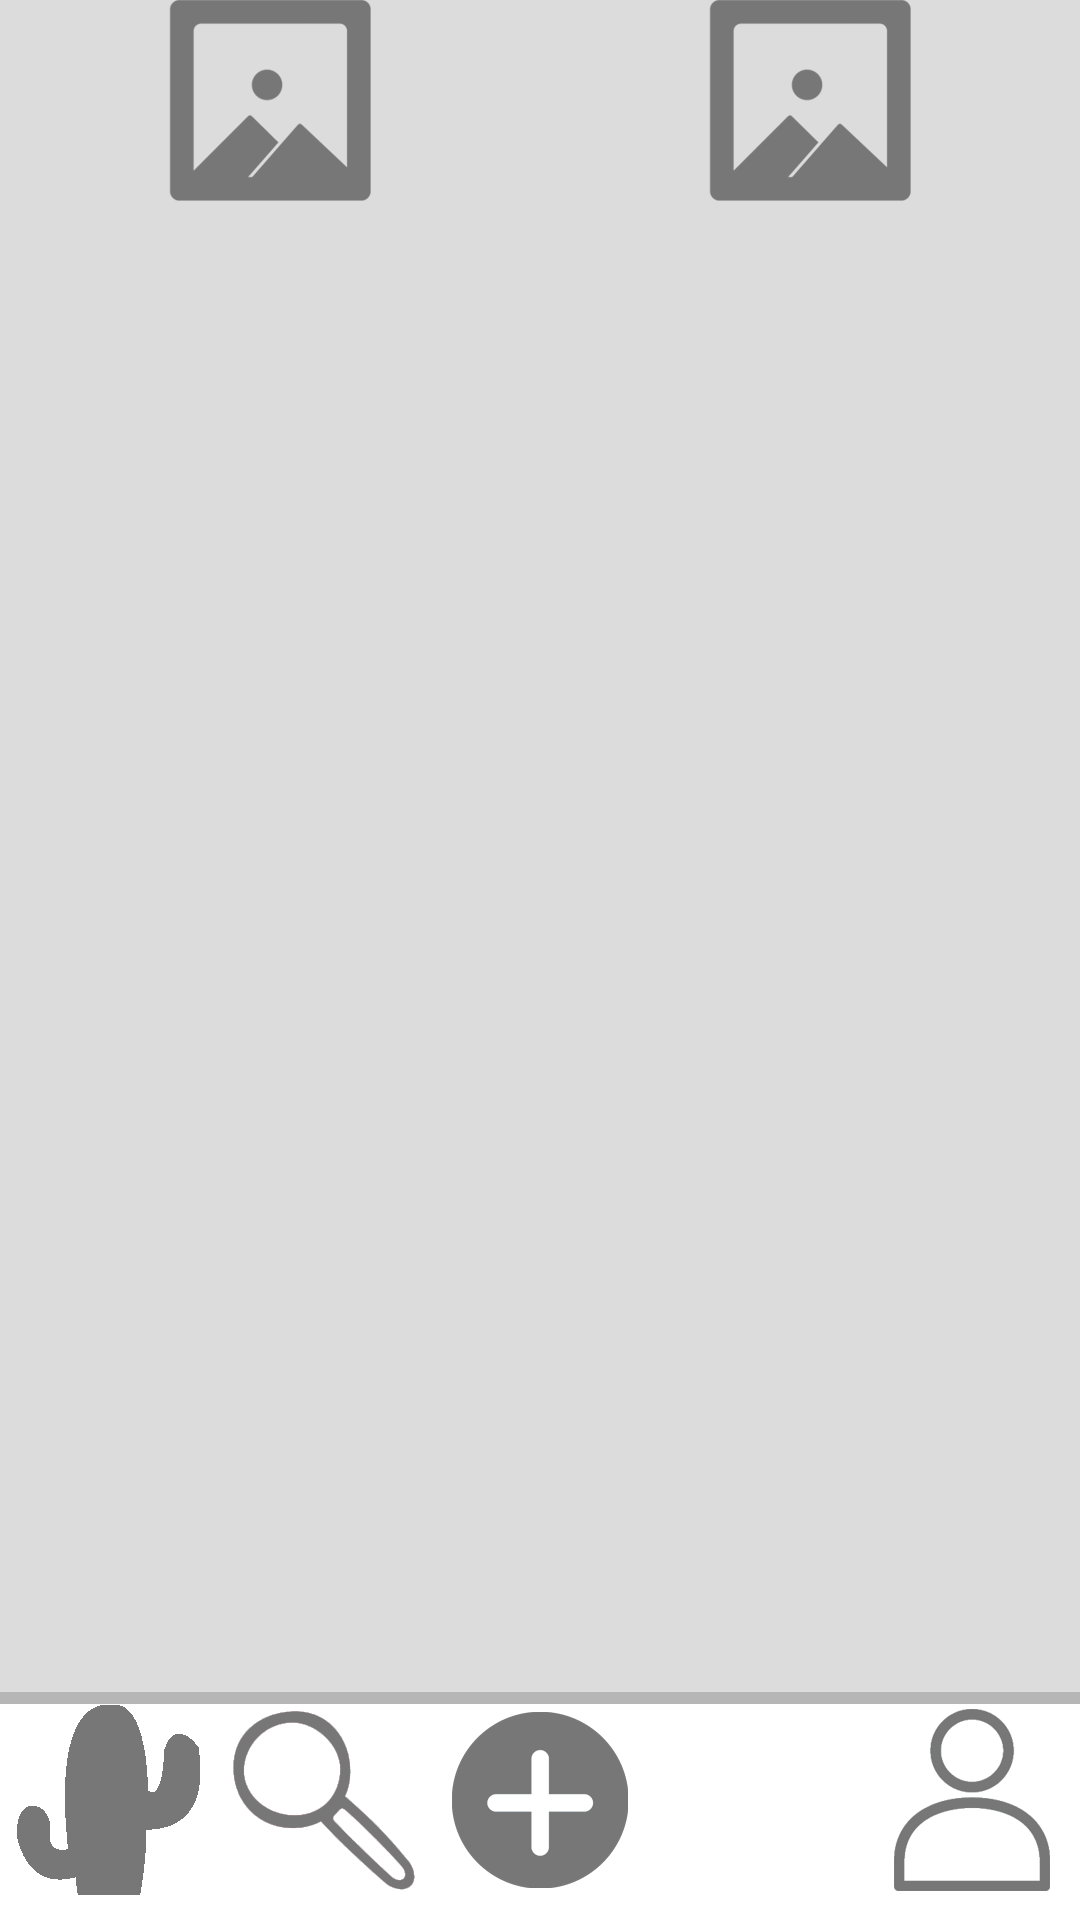

Named icons in this screenshot (1080 x 1920) and their centers, [x,y]:
album: [270,100], [810,100]
mypage: [972,1800]
plus: [540,1800]
serach: [324,1800]
